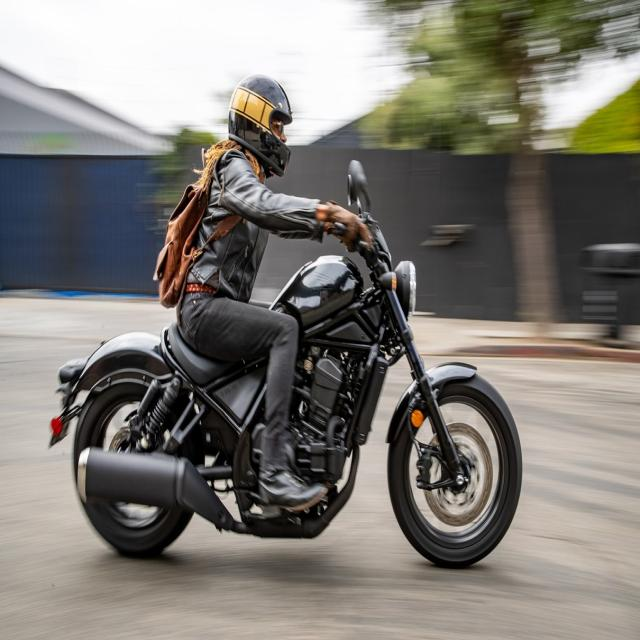Bike: (49, 161, 522, 569)
